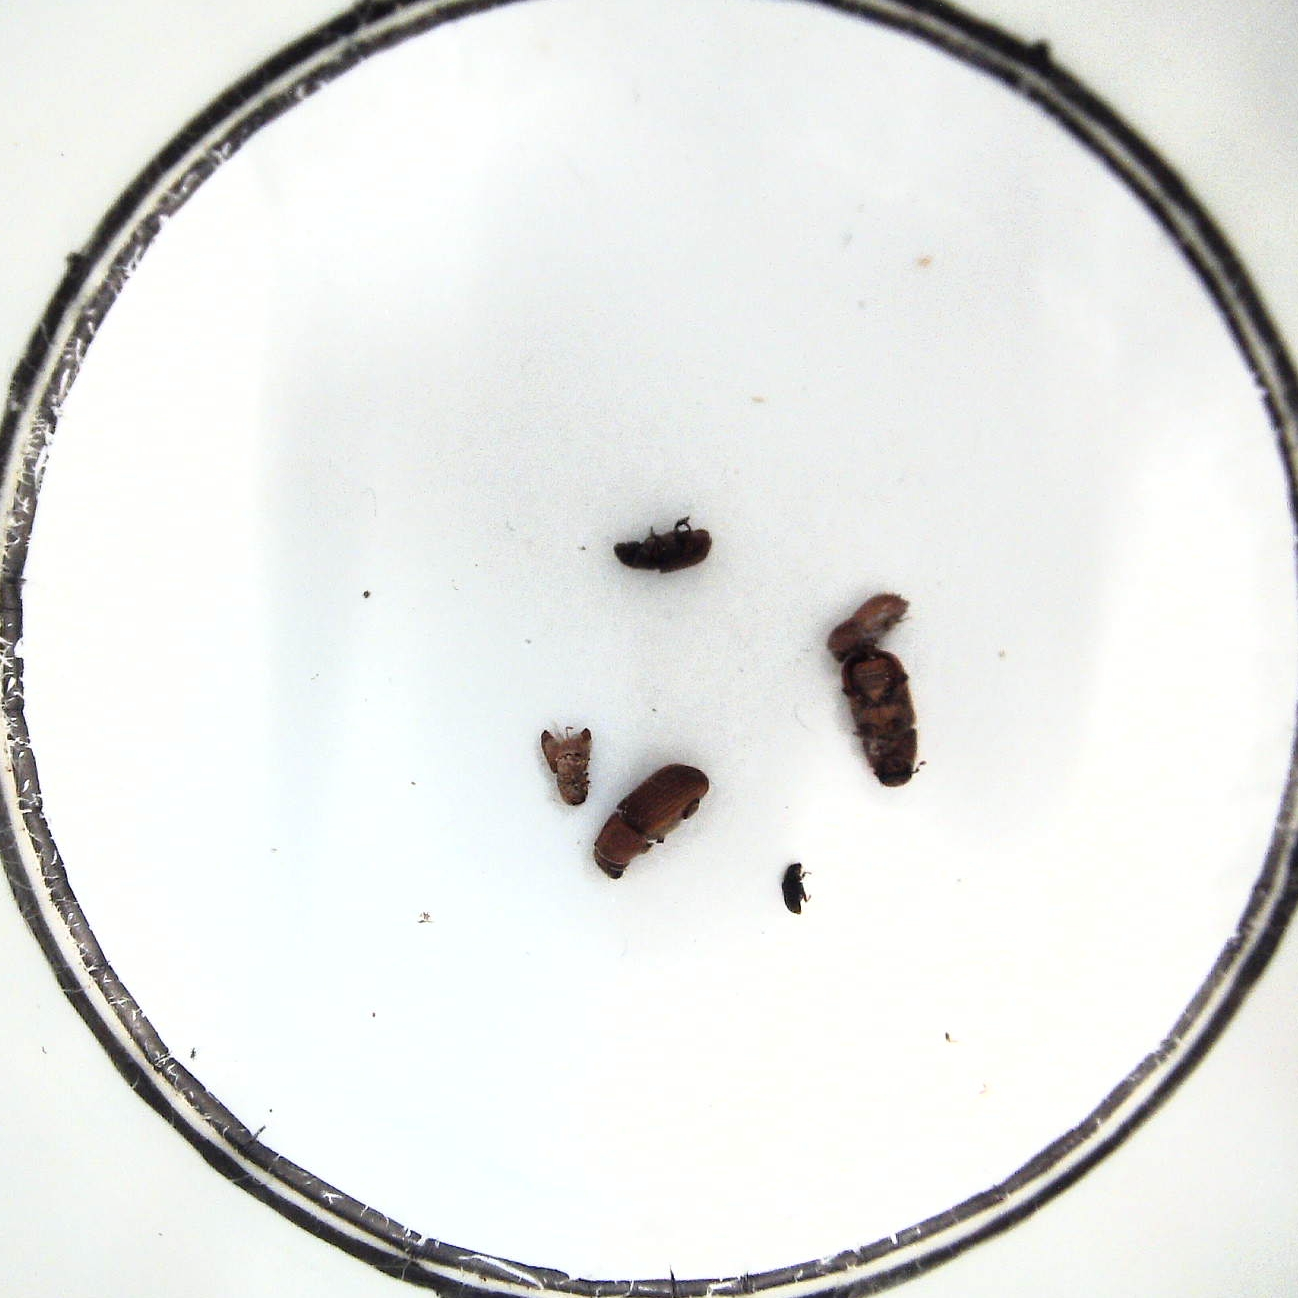Leconte: (596, 763, 708, 877), (844, 650, 916, 790)
Linnaeus: (826, 588, 915, 663)
acuminatus: (538, 724, 598, 811)
armandi: (615, 513, 717, 573)
coleoptera: (781, 859, 812, 924)
